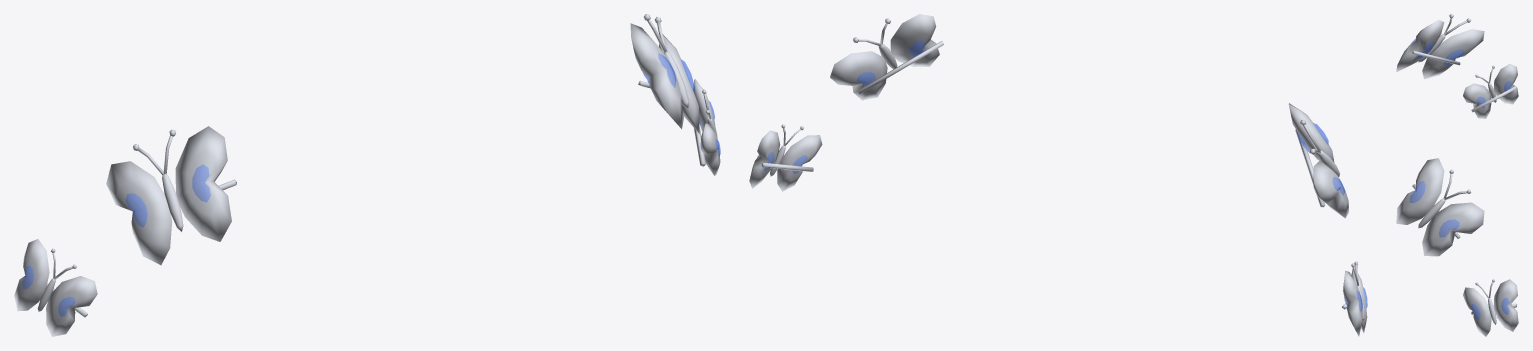
Rendered from butterfly_clips.glb.
3 renders of one model, left to right at view 1: azimuth 30°, elevation 25°; view 2: azimuth 150°, elevation 25°; view 3: azimuth 270°, elevation 25°, orthographic. The views are drawn at different scales.
Visible parts, largest first — view 1: butterfly_clips; view 2: butterfly_clips; view 3: butterfly_clips.
Boxes of the visible parts, x1,y1,x2,y2 form: butterfly_clips: (14, 14, 720, 336); butterfly_clips: (749, 14, 1367, 336); butterfly_clips: (1396, 14, 1518, 336).
Bounding box in the file's own units: 0.2377 × 0.0677 × 0.054.
